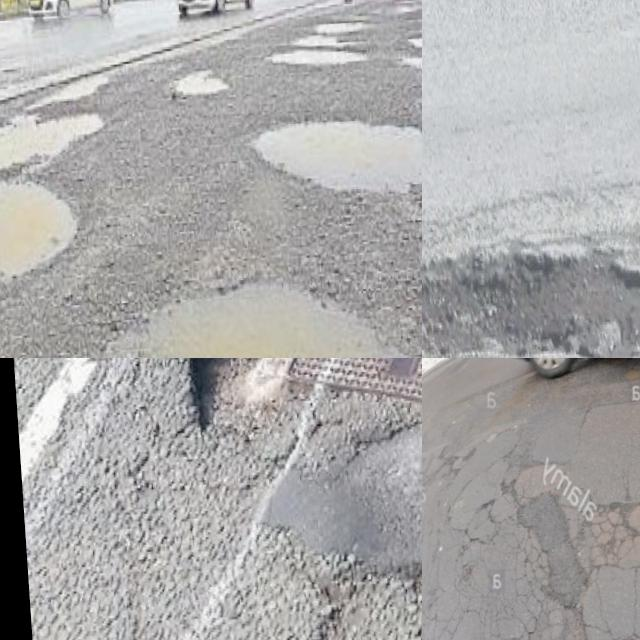Potholes: (115, 358, 422, 560), (16, 239, 422, 358), (422, 165, 640, 358), (0, 61, 127, 320), (221, 94, 422, 238), (262, 5, 379, 87), (155, 56, 256, 133), (465, 589, 611, 640), (384, 4, 422, 106)
